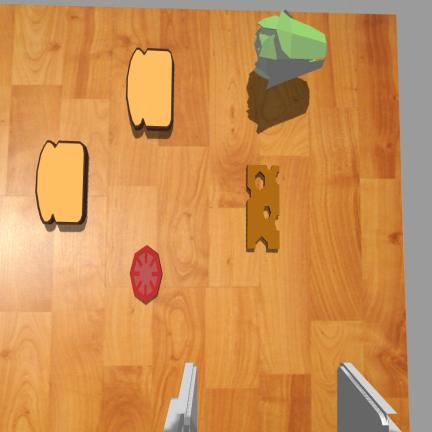cheese: (247, 165, 279, 248), (130, 245, 162, 302)
lettuce: (254, 11, 327, 88)
sliced_bread: (36, 141, 87, 224), (127, 48, 173, 129)
